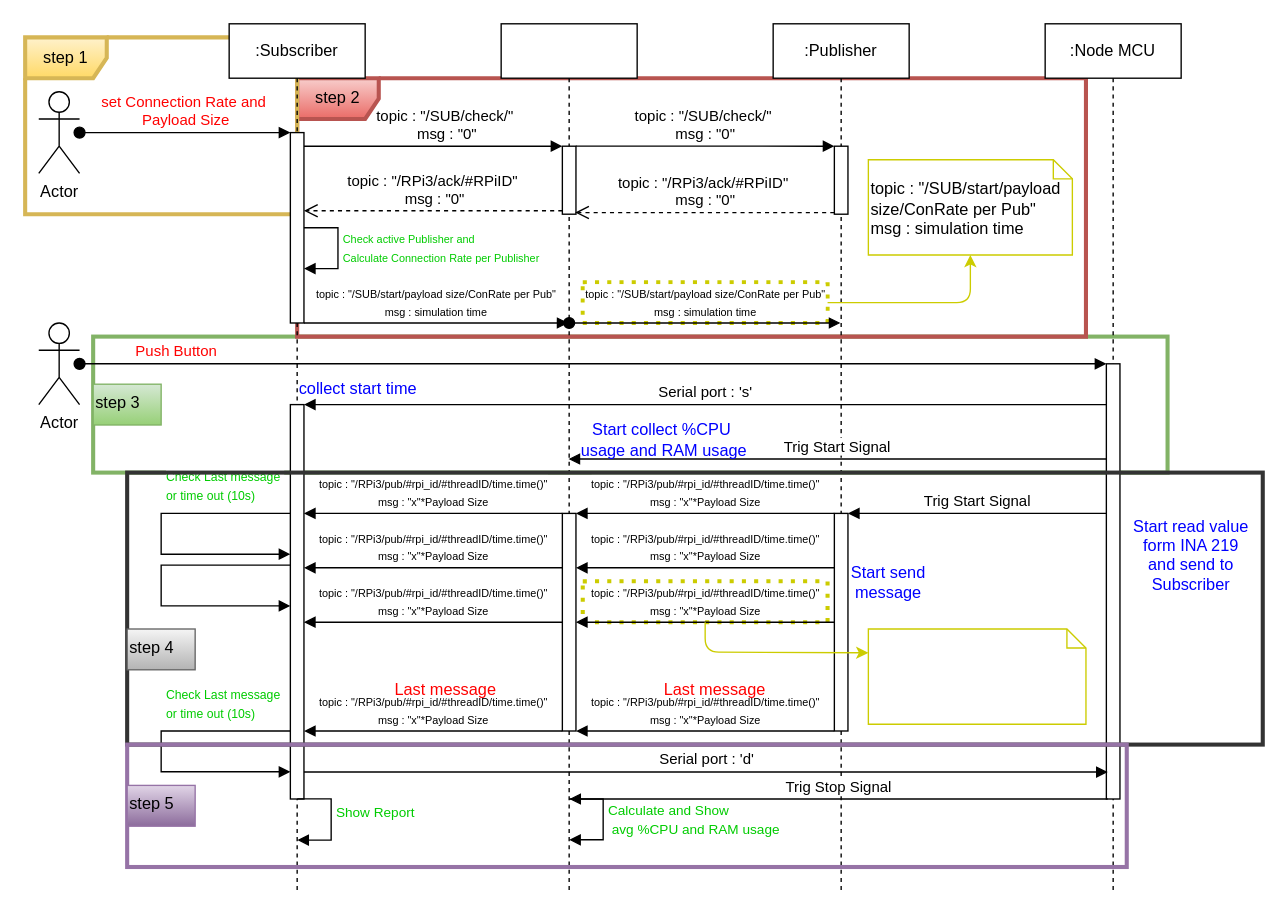
This 1288x918 diagram has some shape labels left out. The shapes that lost their labels are listed below. From the top down, each one's centre as x and y in pixels, then its label:
point (568, 458): :Broker
point (976, 676): topic : "/RPi3/pub/#rpi_id/ #thread ID/time.time()" msg : "x"*Payload Size
